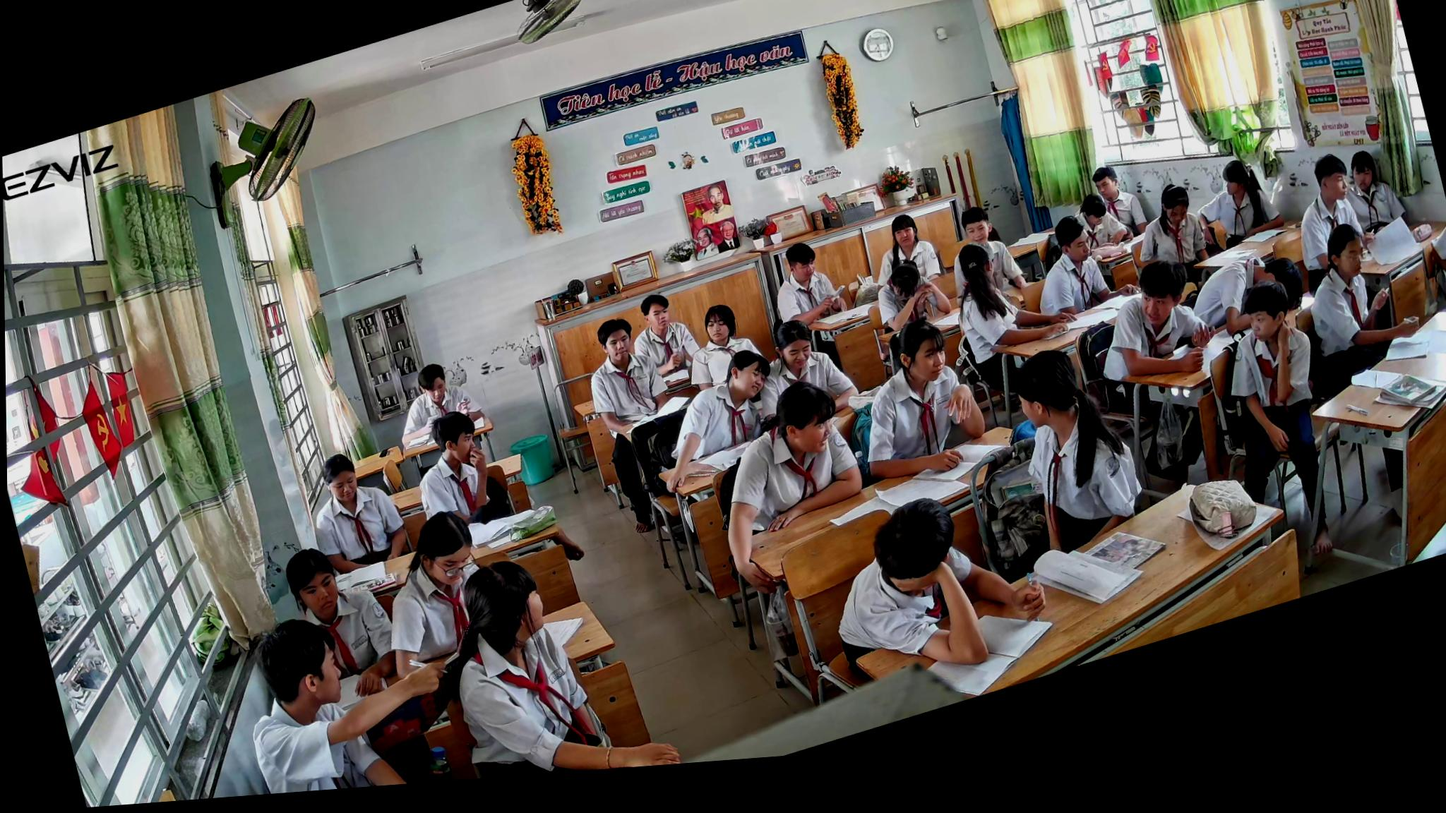person: (424, 516, 681, 782), (219, 572, 483, 797), (814, 465, 1055, 703), (998, 327, 1154, 563), (836, 308, 994, 496), (363, 492, 514, 684), (705, 369, 868, 544), (264, 529, 410, 718), (1085, 246, 1225, 400), (941, 217, 1080, 363), (1197, 267, 1325, 425), (1297, 212, 1423, 360), (298, 433, 413, 581), (405, 400, 513, 548), (1018, 198, 1141, 326), (654, 345, 786, 464), (745, 307, 862, 430), (569, 305, 676, 439), (1181, 234, 1311, 341), (1279, 144, 1373, 275), (935, 194, 1034, 312), (384, 348, 490, 456), (1189, 147, 1286, 252), (674, 292, 770, 398), (1122, 175, 1212, 280), (764, 229, 851, 332), (623, 280, 707, 381), (1331, 136, 1411, 239), (862, 204, 945, 301), (1074, 155, 1153, 255), (869, 251, 953, 336), (1061, 182, 1136, 267)
